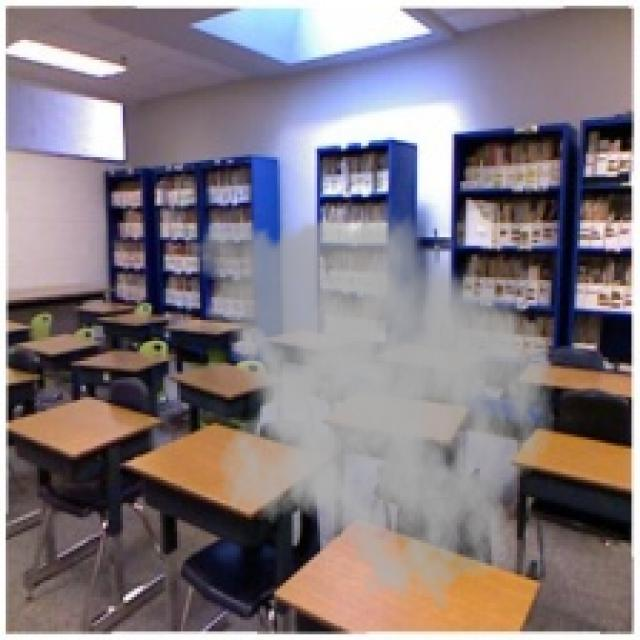smoke: (180, 197, 557, 614)
